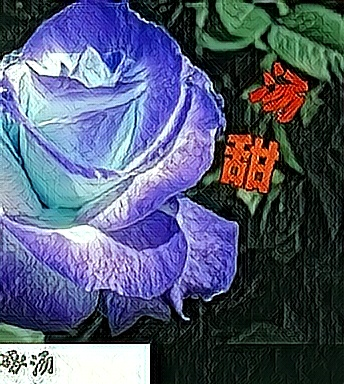CCC0: (245, 60, 308, 126)
CCF0: (219, 127, 282, 193)
